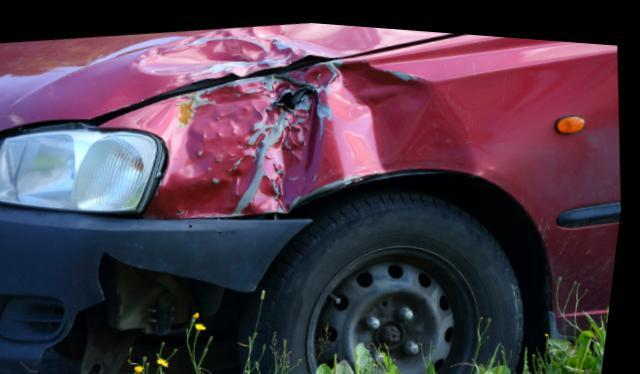dent: (153, 54, 479, 214), (135, 18, 378, 74)
